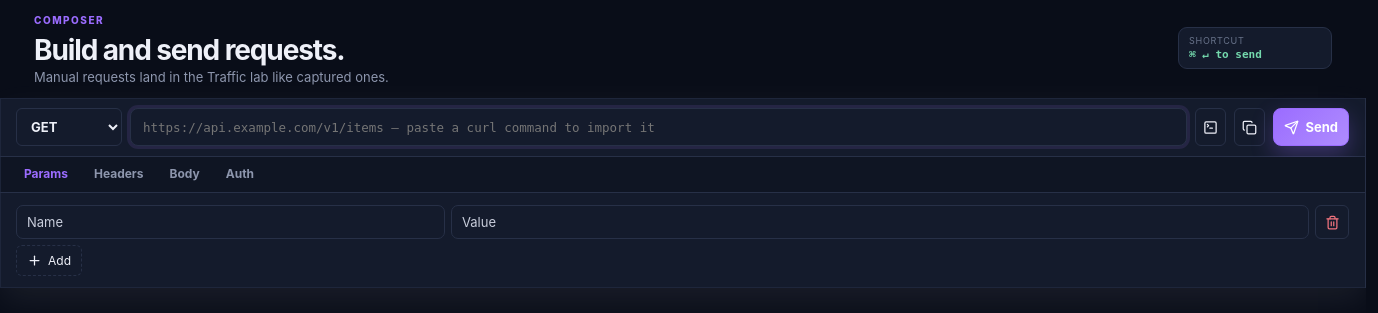
Test case: ComposerView › bounds a large response body before rendering it
Type "https://api.test/large-error" into the field named "Request URL".
click(659, 127); type("https://api.test/large-error")  # box [130,108,1188,146]
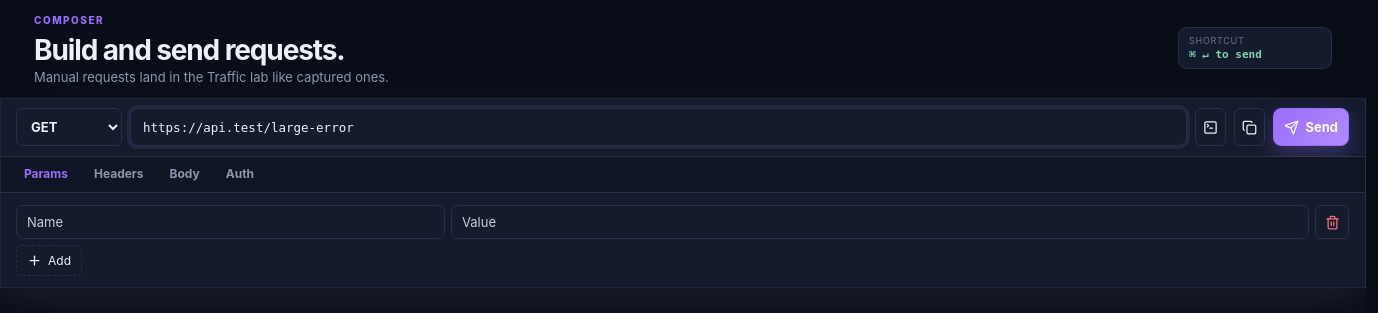
Click the button "Send".
click(1311, 127)  # box [1274,108,1349,146]
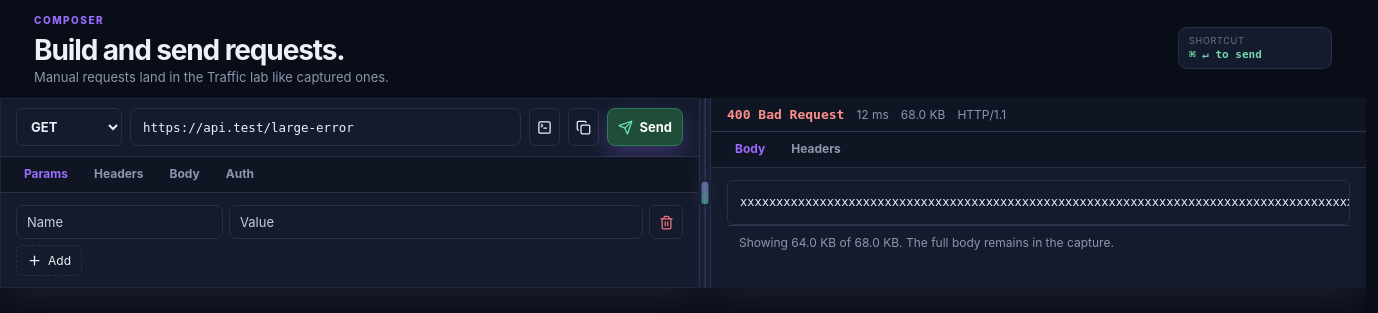
Expected: the text "The full body remains in the capture" is shown, [739,235,1114,250]
